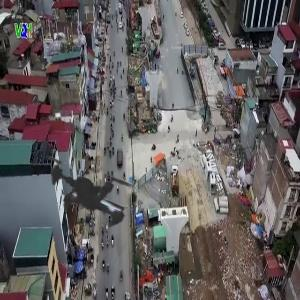drone: (2, 117, 173, 288)
